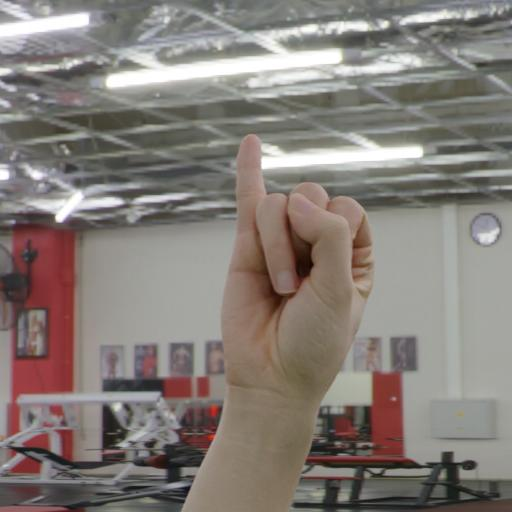I: (174, 130, 382, 512)
